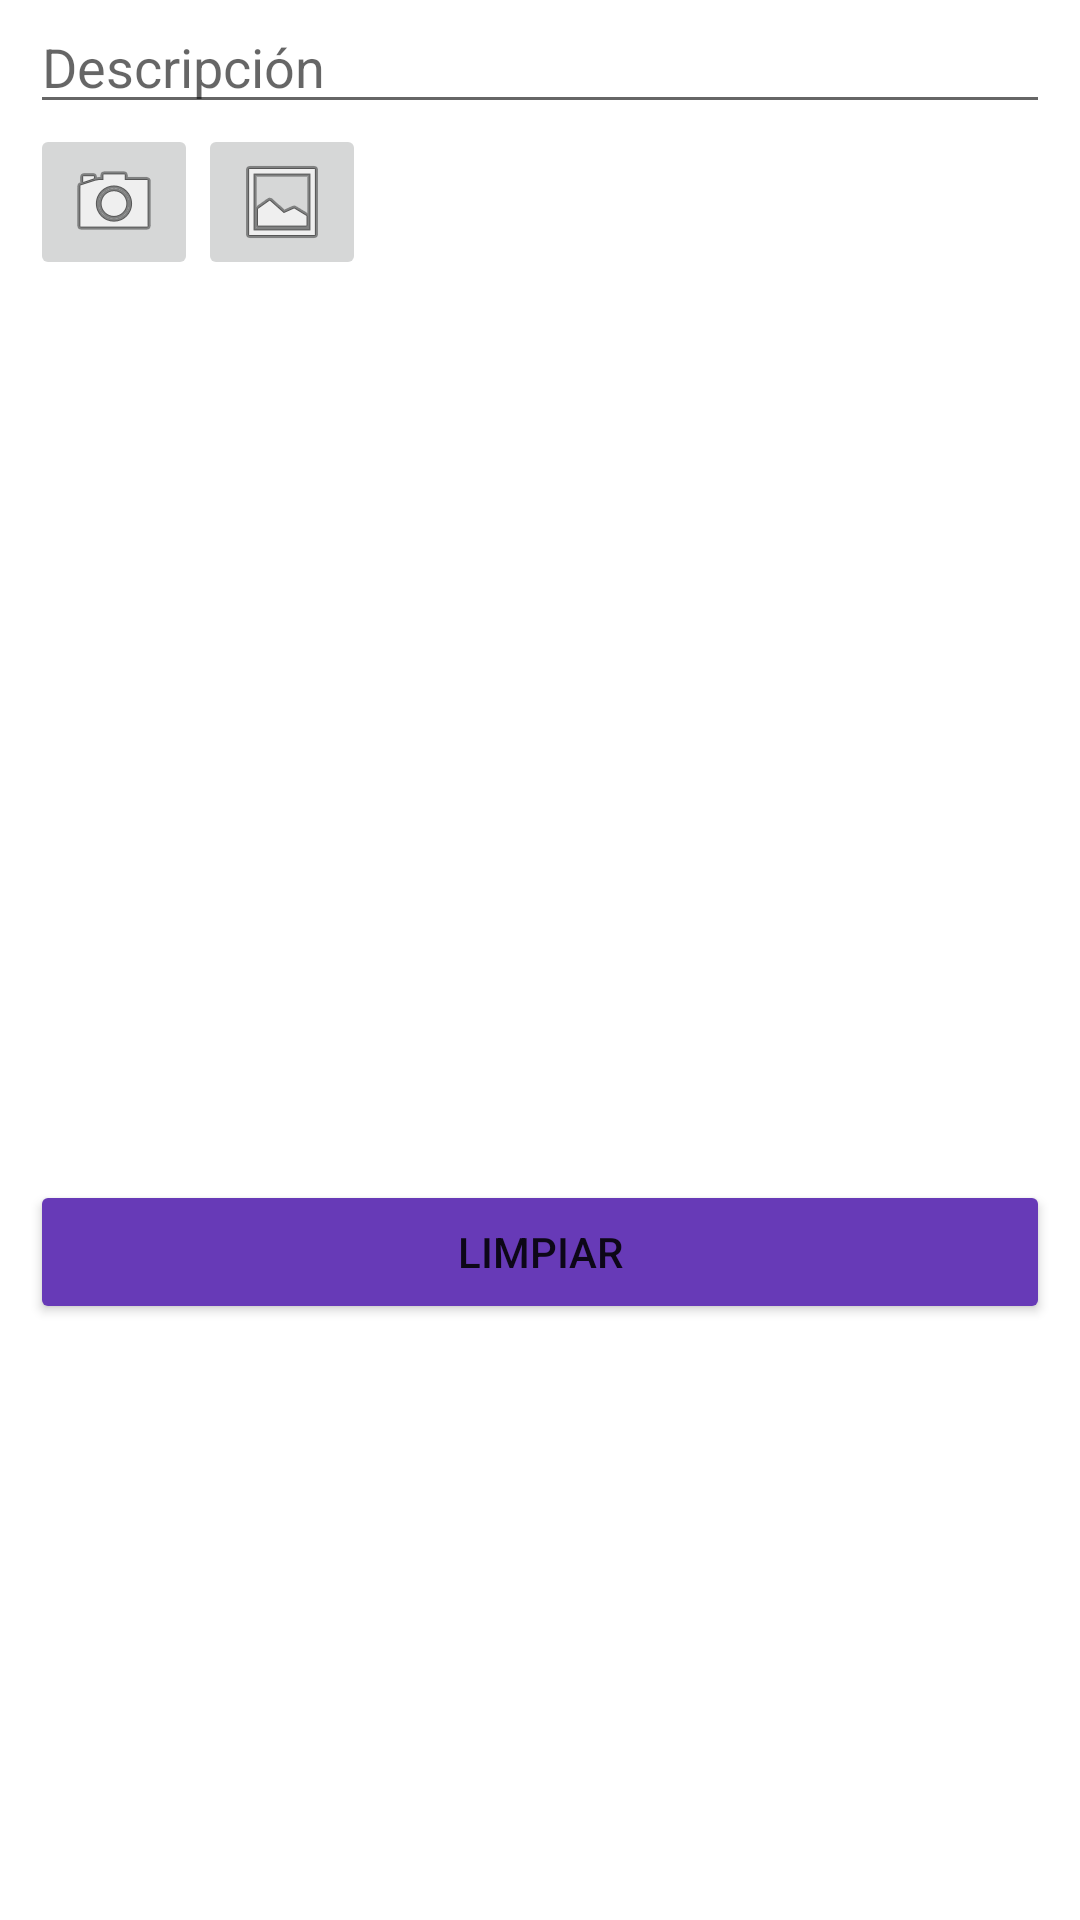

Screen size 1080 × 1920. Icon name, then its center in pixels as point (x, y):
camera: point (114, 202)
gallery: point (282, 202)
